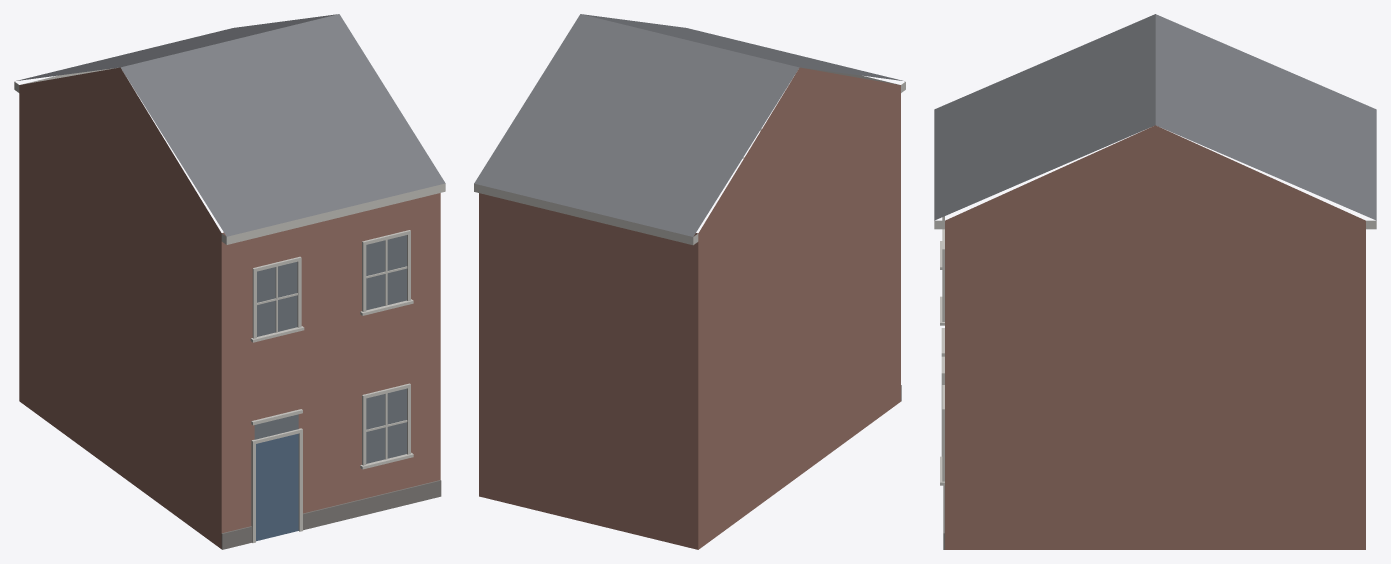
Rendered from terrace_50.glb.
3 views of the same model, side by side, from view 1: azimuth 30°, elevation 25°; view 2: azimuth 150°, elevation 25°; view 3: azimuth 270°, elevation 25° (orthographic). The views are drawn at different scales.
Parts seen in each view (by area): view 1: Part0; view 2: Part0; view 3: Part0.
Boxes of the visible parts, left/top/right/bottom form: Part0: left=14, top=14, right=445, bottom=549; Part0: left=474, top=14, right=905, bottom=549; Part0: left=934, top=14, right=1376, bottom=549.
Bounding box in the file's own units: 5 × 8.9 × 8.4.
